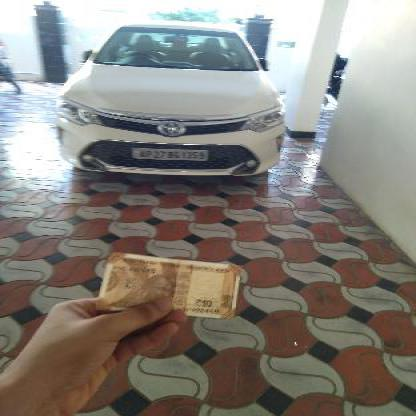New10Front: (101, 256, 244, 316)
